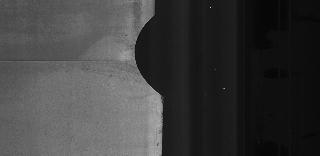welding line: (2, 55, 142, 66)
